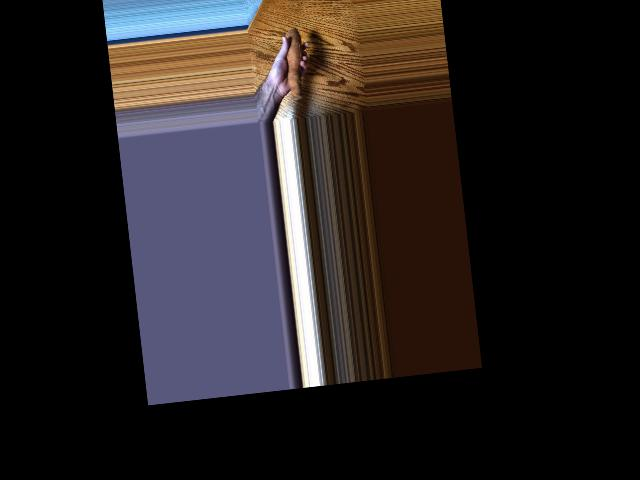sweet_potato: (273, 21, 310, 104)
